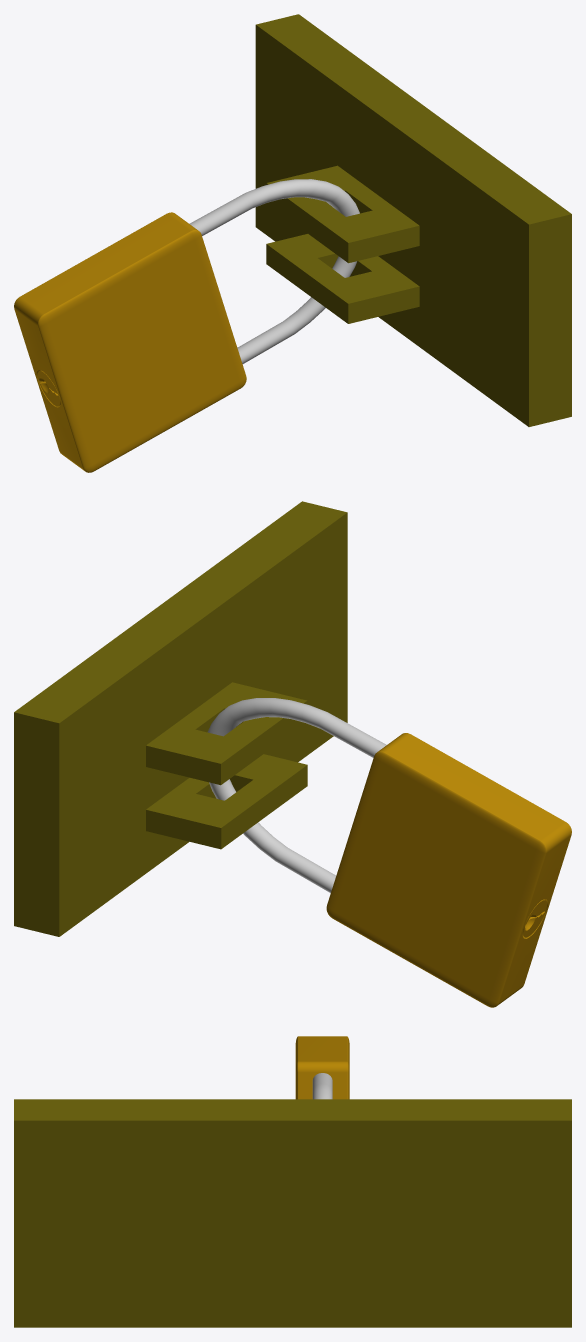
File: Padlock.fbx
The picture shows the model from 3 angles, top to bottom: view 1: azimuth 30°, elevation 25°; view 2: azimuth 150°, elevation 25°; view 3: azimuth 270°, elevation 25°; orthographic projection. The views are drawn at different scales.
Parts seen in each view (by area): view 1: pCube1, polySurface1, pTorus1; view 2: pCube1, polySurface1, pTorus1; view 3: pCube1, polySurface1, pTorus1.
Part boxes in pixels (bbox=[...]): pCube1: bbox=[255, 14, 571, 426]; polySurface1: bbox=[14, 212, 246, 472]; pTorus1: bbox=[189, 179, 359, 363]; pCube1: bbox=[14, 501, 347, 936]; polySurface1: bbox=[326, 733, 571, 1007]; pTorus1: bbox=[207, 698, 386, 893]; pCube1: bbox=[14, 1099, 571, 1327]; polySurface1: bbox=[295, 1036, 349, 1099]; pTorus1: bbox=[312, 1073, 332, 1099].
Bounding box in the file's own units: 20.35 × 13.64 × 24.38.
